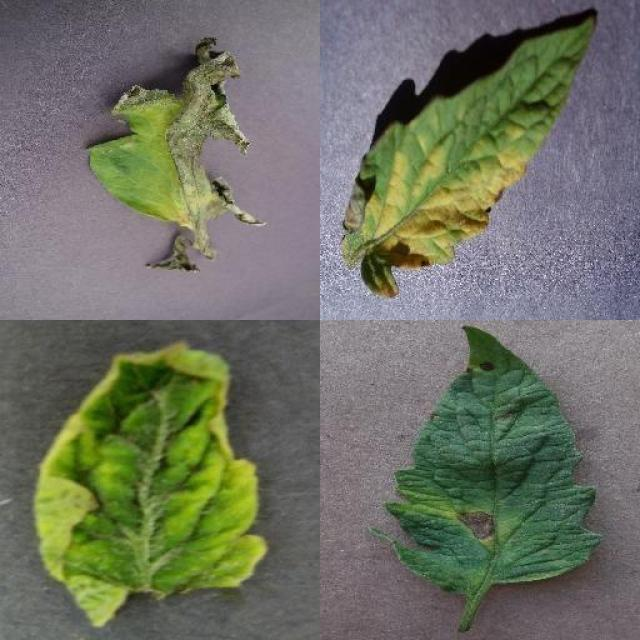Early Blight: (375, 325, 604, 593)
Late Blight: (84, 36, 261, 272)
